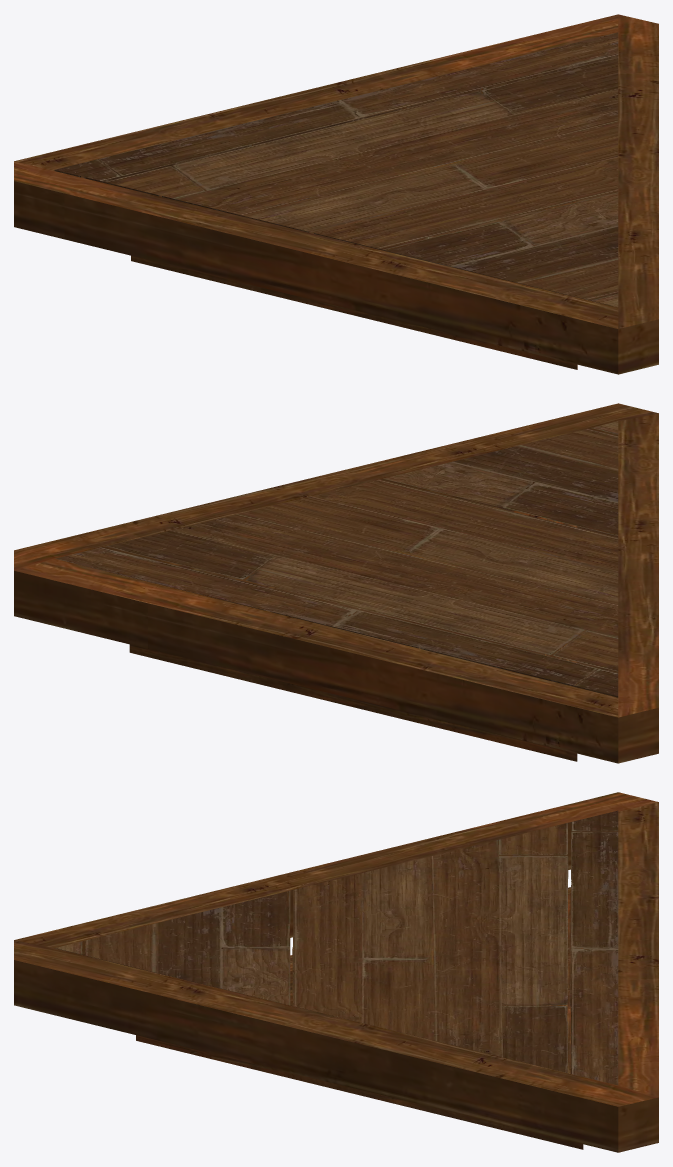
3 renders of one model, top to bottom at view 1: azimuth 30°, elevation 25°; view 2: azimuth 150°, elevation 25°; view 3: azimuth 270°, elevation 25°, orthographic.
Parts seen in each view (by area): view 1: SM_BB_T2_Floor_Trangle_Large_LOD0; view 2: SM_BB_T2_Floor_Trangle_Large_LOD0; view 3: SM_BB_T2_Floor_Trangle_Large_LOD0.
Part boxes in pixels (<box>): SM_BB_T2_Floor_Trangle_Large_LOD0: <box>14,14,658,374</box>; SM_BB_T2_Floor_Trangle_Large_LOD0: <box>14,403,658,763</box>; SM_BB_T2_Floor_Trangle_Large_LOD0: <box>14,792,658,1152</box>.
Bounding box in the file's own units: 3.43 × 0.4716 × 2.97.
Materials: 2 (2 with a texture image).
